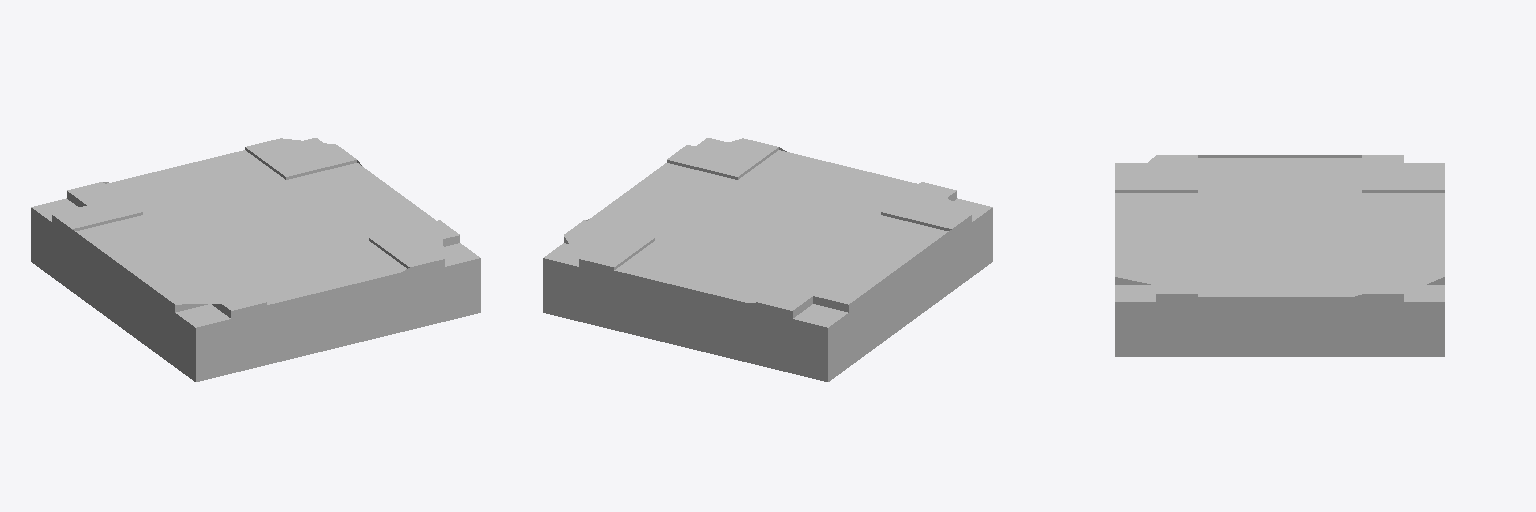
Rendered from roadTile_141.obj.
The picture shows the model from 3 angles: view 1: azimuth 30°, elevation 25°; view 2: azimuth 150°, elevation 25°; view 3: azimuth 270°, elevation 25°; orthographic projection.
Parts seen in each view (by area): view 1: Mesh1_Group1_Model.004; view 2: Mesh1_Group1_Model.004; view 3: Mesh1_Group1_Model.004.
Boxes of the visible parts, x1,y1,x2,y2 form: Mesh1_Group1_Model.004: [31, 138, 480, 381]; Mesh1_Group1_Model.004: [543, 138, 992, 381]; Mesh1_Group1_Model.004: [1115, 155, 1444, 356].
Size of the model in its own units: 1.08 by 0.2268 by 1.08.